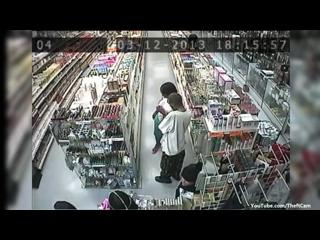Normal: (154, 93, 192, 184), (152, 82, 178, 154)
